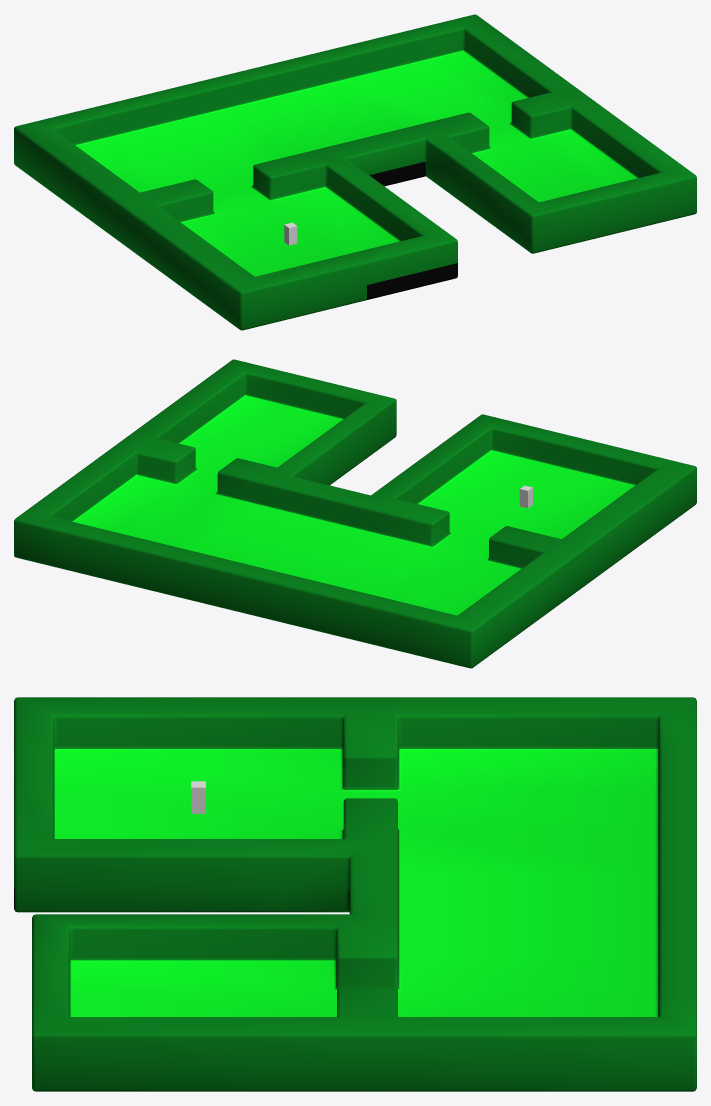
File: LEVEL01_ATTEMPT_C_TALLER_WALLS.glb
3 renders of one model, top to bottom at view 1: azimuth 30°, elevation 25°; view 2: azimuth 150°, elevation 25°; view 3: azimuth 270°, elevation 25°, orthographic. The views are drawn at different scales.
Visible parts, largest first — view 1: LEVEL_01_ATTEMPT_C_TALLER_WALLS; view 2: LEVEL_01_ATTEMPT_C_TALLER_WALLS; view 3: LEVEL_01_ATTEMPT_C_TALLER_WALLS.
Boxes of the visible parts, x1,y1,x2,y2 form: LEVEL_01_ATTEMPT_C_TALLER_WALLS: [14, 14, 696, 330]; LEVEL_01_ATTEMPT_C_TALLER_WALLS: [14, 359, 696, 668]; LEVEL_01_ATTEMPT_C_TALLER_WALLS: [14, 697, 696, 1091].
Bounding box in the file's own units: 55.27 × 4.63 × 47.1.
